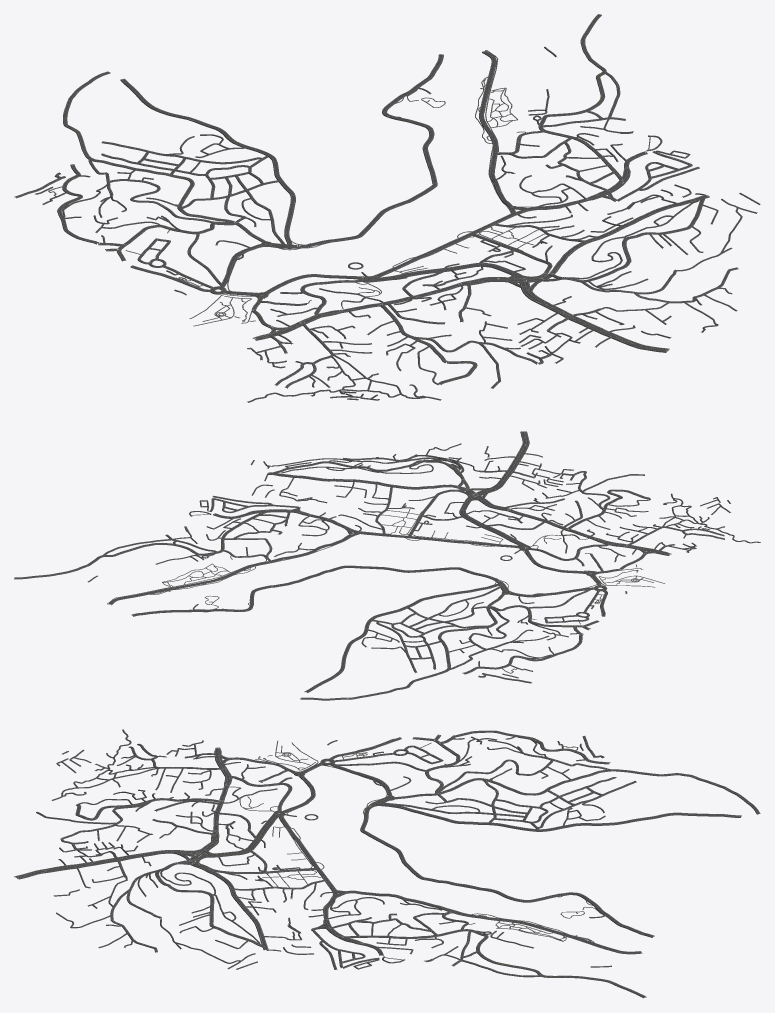
File: osm_real_roads_T_E00_N00.glb
The picture shows the model from 3 angles, top to bottom: view 1: azimuth 30°, elevation 25°; view 2: azimuth 150°, elevation 25°; view 3: azimuth 270°, elevation 25°; orthographic projection. The views are drawn at different scales.
Visible parts, largest first — view 1: OSM_Roads_T_E00_N00_taluy_embankment, OSM_Roads_T_E00_N00_asphalt_local, OSM_Roads_T_E00_N00_sidewalk_paver, OSM_Roads_T_E00_N00_asphalt_primary, OSM_Roads_T_E00_N00_granite_curb; view 2: OSM_Roads_T_E00_N00_taluy_embankment, OSM_Roads_T_E00_N00_asphalt_local, OSM_Roads_T_E00_N00_sidewalk_paver, OSM_Roads_T_E00_N00_asphalt_primary, OSM_Roads_T_E00_N00_granite_curb; view 3: OSM_Roads_T_E00_N00_taluy_embankment, OSM_Roads_T_E00_N00_asphalt_local, OSM_Roads_T_E00_N00_sidewalk_paver, OSM_Roads_T_E00_N00_asphalt_primary, OSM_Roads_T_E00_N00_granite_curb.
Part boxes in pixels (x1,y1,x2,y2): OSM_Roads_T_E00_N00_taluy_embankment: [14, 15, 759, 402]; OSM_Roads_T_E00_N00_asphalt_local: [15, 14, 760, 401]; OSM_Roads_T_E00_N00_sidewalk_paver: [17, 14, 736, 387]; OSM_Roads_T_E00_N00_asphalt_primary: [122, 51, 708, 351]; OSM_Roads_T_E00_N00_granite_curb: [41, 15, 735, 385]; OSM_Roads_T_E00_N00_taluy_embankment: [14, 432, 760, 700]; OSM_Roads_T_E00_N00_asphalt_local: [14, 443, 760, 699]; OSM_Roads_T_E00_N00_sidewalk_paver: [15, 431, 723, 699]; OSM_Roads_T_E00_N00_asphalt_primary: [109, 431, 670, 692]; OSM_Roads_T_E00_N00_granite_curb: [16, 445, 723, 698]; OSM_Roads_T_E00_N00_taluy_embankment: [14, 730, 757, 998]; OSM_Roads_T_E00_N00_asphalt_local: [36, 729, 759, 997]; OSM_Roads_T_E00_N00_sidewalk_paver: [14, 730, 760, 997]; OSM_Roads_T_E00_N00_asphalt_primary: [15, 747, 741, 955]; OSM_Roads_T_E00_N00_granite_curb: [40, 730, 759, 991].
Size of the model in its own units: 2436 by 144 by 2747.
Materials: 7 (5 with a texture image).
